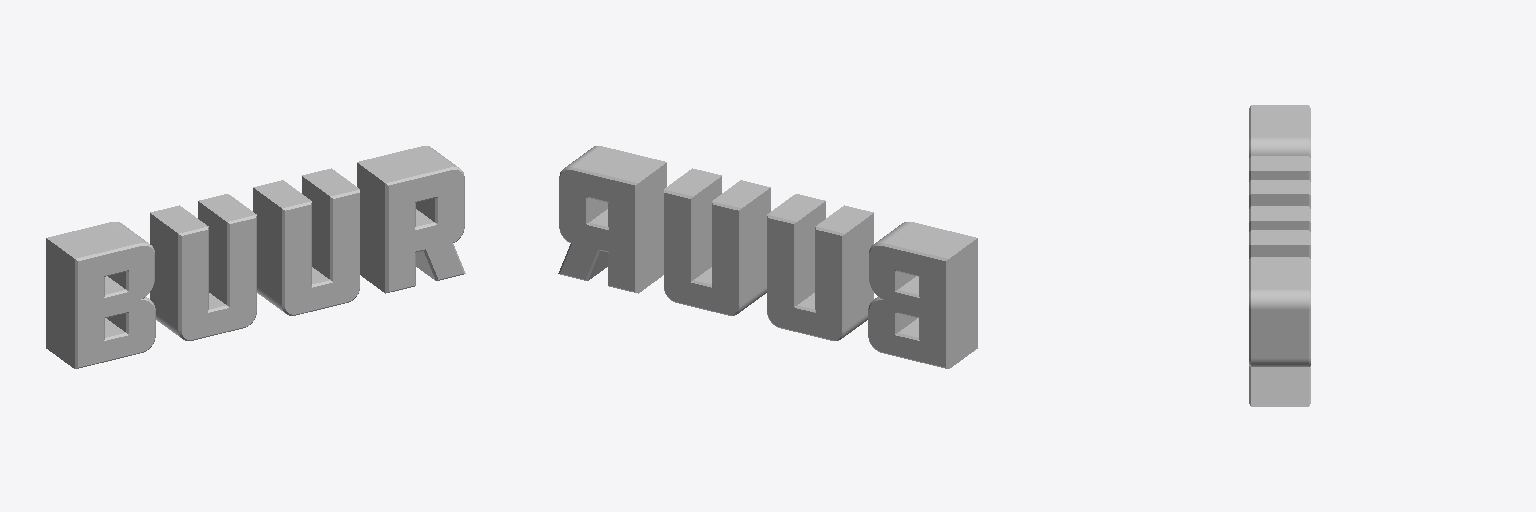
File: BUUR.obj
3 views of the same model, side by side, from view 1: azimuth 30°, elevation 25°; view 2: azimuth 150°, elevation 25°; view 3: azimuth 270°, elevation 25° (orthographic).
Visible parts, largest first — view 1: Text; view 2: Text; view 3: Text.
Boxes of the visible parts, x1,y1,x2,y2 form: Text: [46, 146, 465, 368]; Text: [558, 146, 977, 368]; Text: [1249, 105, 1310, 406].
Size of the model in its own units: 2.03 by 0.5494 by 0.28.